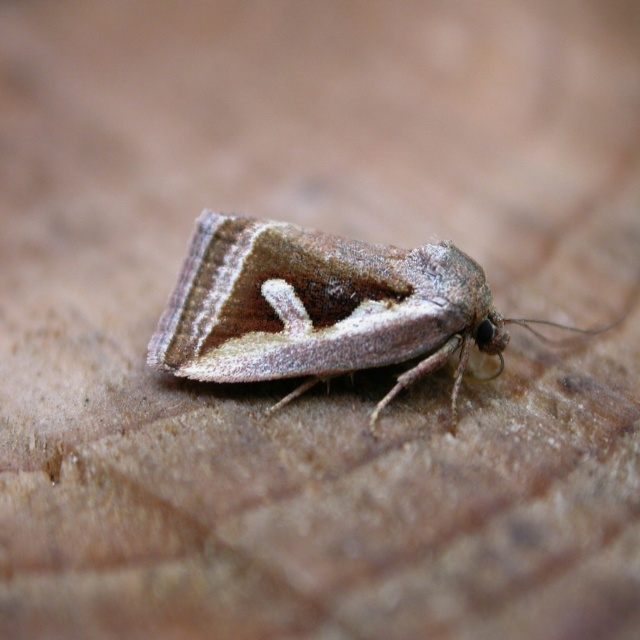Moths and butterflies: (146, 207, 634, 441)
